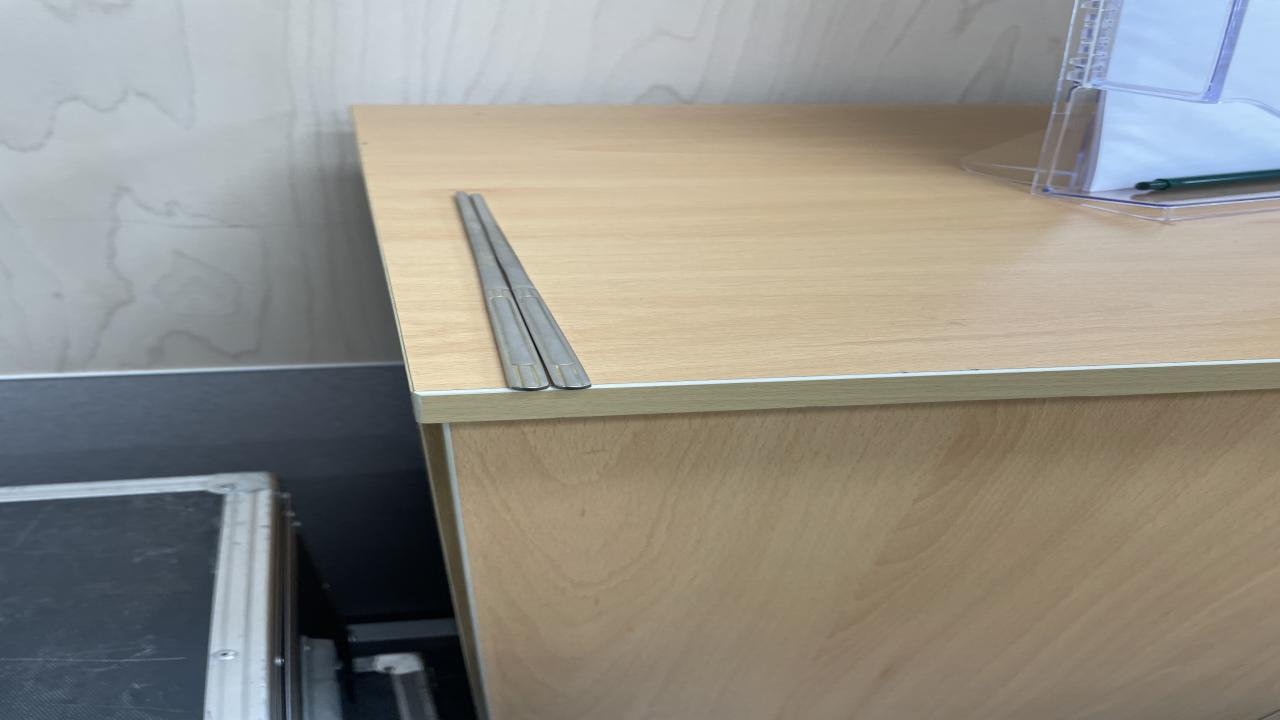chopstick: (446, 190, 596, 390)
